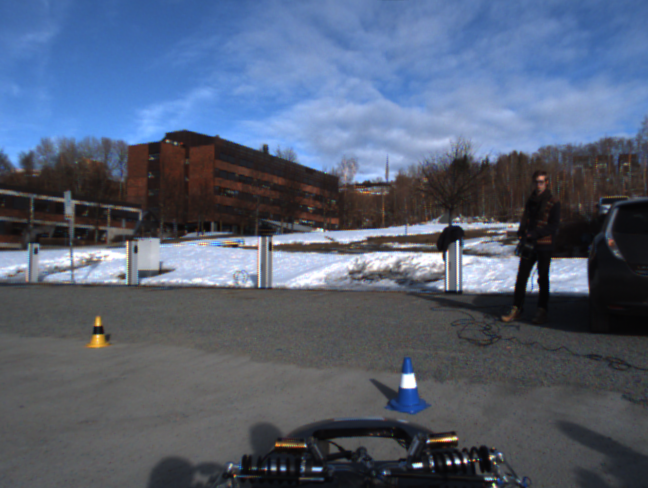cone-small-blue: (384, 357, 431, 413)
cone-small-yellow: (85, 314, 110, 349)
